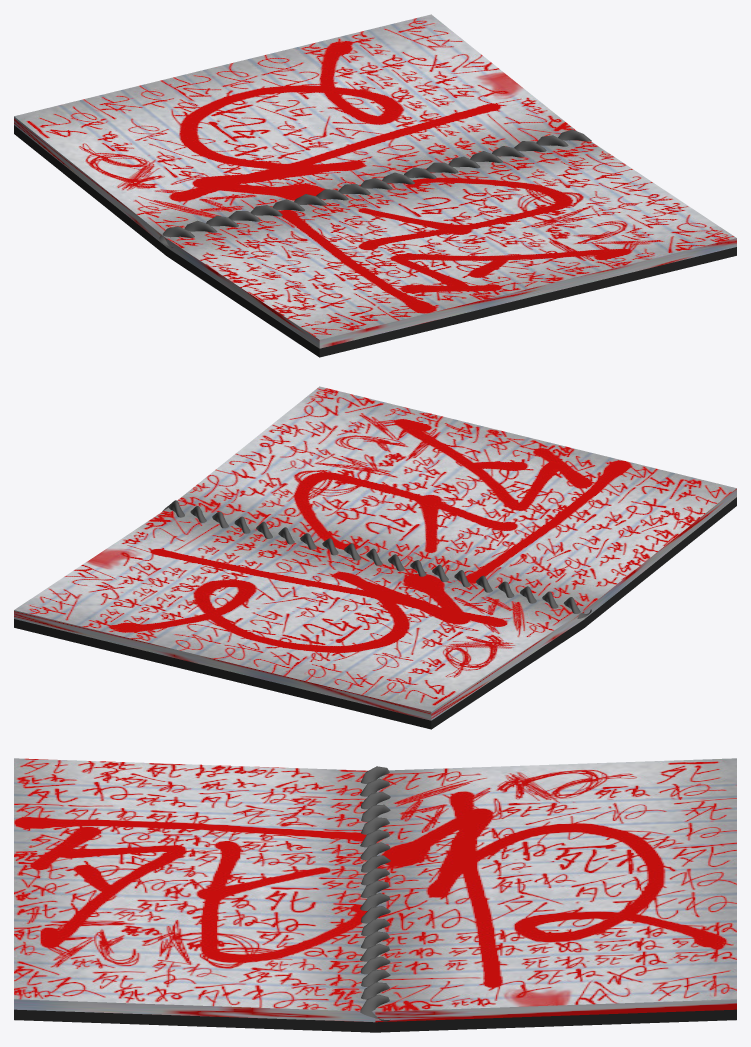
The model's file is notebook004.fbx.
3 renders of one model, top to bottom at view 1: azimuth 30°, elevation 25°; view 2: azimuth 150°, elevation 25°; view 3: azimuth 270°, elevation 25°, orthographic. The views are drawn at different scales.
Visible parts, largest first — view 1: Cube.003, Circle; view 2: Cube.003, Circle; view 3: Cube.003, Circle.
Part boxes in pixels (box(x1,y1,x2,y2)): Cube.003: box(14, 14, 736, 357); Circle: box(159, 129, 591, 247); Cube.003: box(14, 386, 736, 729); Circle: box(162, 500, 591, 618); Cube.003: box(14, 758, 736, 1032); Circle: box(360, 766, 390, 1021).
Bounding box in the file's own units: 167 × 10.57 × 207.
Materials: 5 (2 with a texture image).
